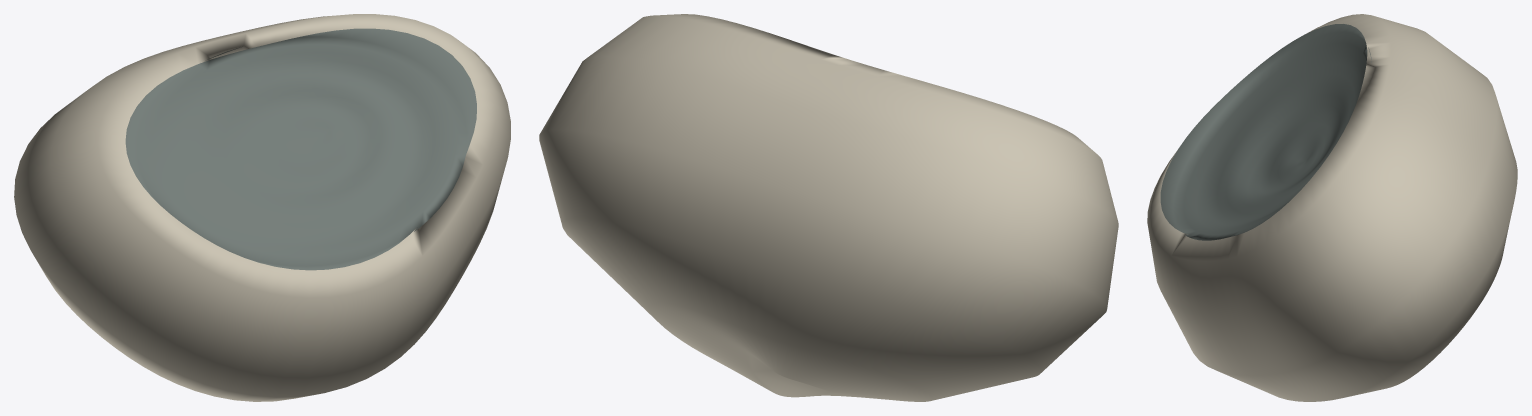
File: flint-nodule.glb
3 views of the same model, side by side, from view 1: azimuth 30°, elevation 25°; view 2: azimuth 150°, elevation 25°; view 3: azimuth 270°, elevation 25° (orthographic). The views are drawn at different scales.
Visible parts, largest first — view 1: rounded-chalk-cortex-nodule-with-single-conchoidal-fracture; view 2: rounded-chalk-cortex-nodule-with-single-conchoidal-fracture; view 3: rounded-chalk-cortex-nodule-with-single-conchoidal-fracture.
Boxes of the visible parts, bbox=[...] form: rounded-chalk-cortex-nodule-with-single-conchoidal-fracture: bbox=[14, 14, 510, 401]; rounded-chalk-cortex-nodule-with-single-conchoidal-fracture: bbox=[539, 14, 1118, 401]; rounded-chalk-cortex-nodule-with-single-conchoidal-fracture: bbox=[1147, 14, 1517, 401].
Size of the model in its own units: 0.22 by 0.1408 by 0.152.
